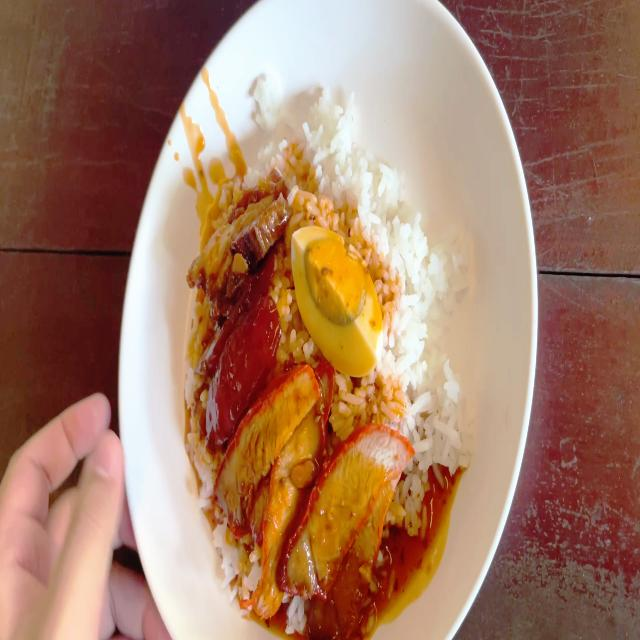boiled_egg: (294, 226, 381, 379)
chainese_sausage: (192, 287, 268, 438)
crispy_pork: (187, 182, 283, 290)
red_pork: (254, 373, 333, 593), (322, 436, 394, 596)
red_pork_and_crispy_pork: (189, 128, 471, 601)
rice: (382, 219, 470, 454), (275, 107, 419, 232)
